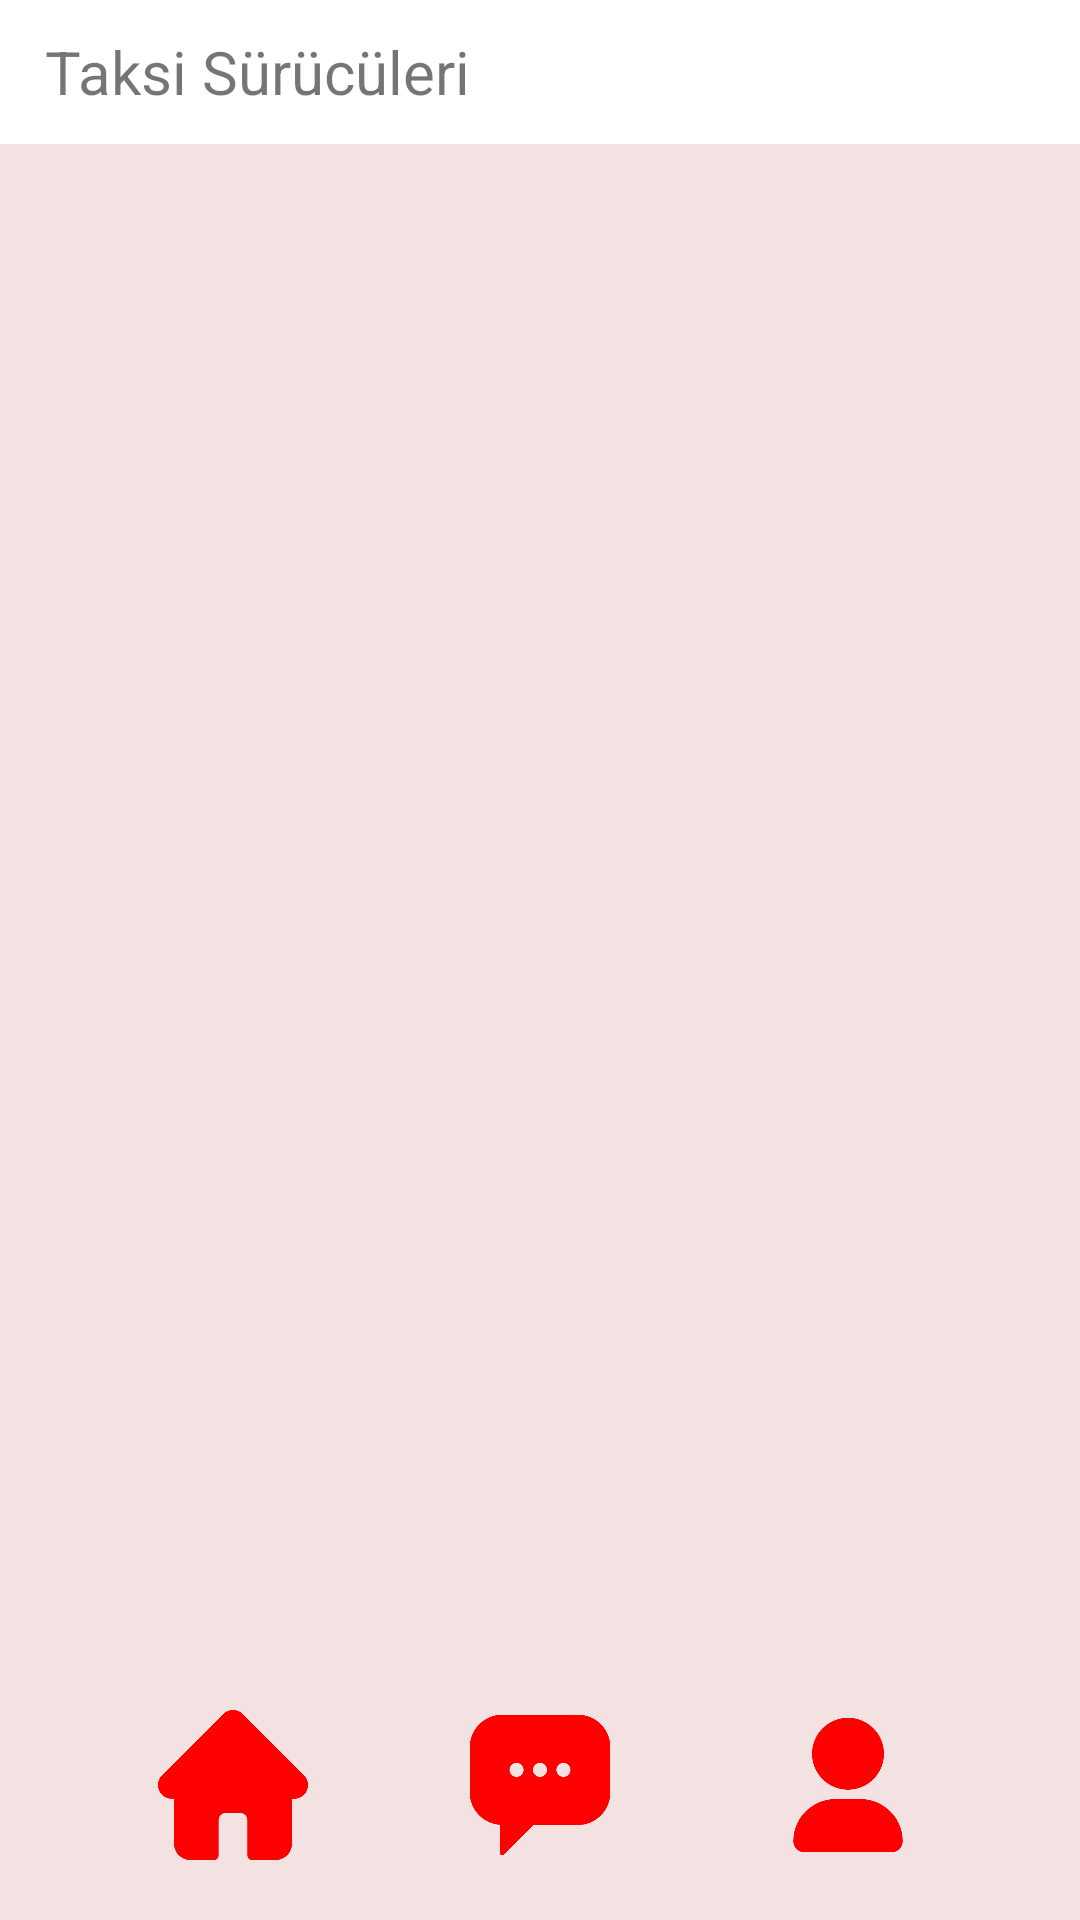

Screen size 1080px x 1920px. Icon name, then its box in pixels as (x1, y1, x2, y2):
chat: (470, 1715, 610, 1855)
home: (158, 1710, 308, 1860)
profile: (793, 1718, 903, 1852)
